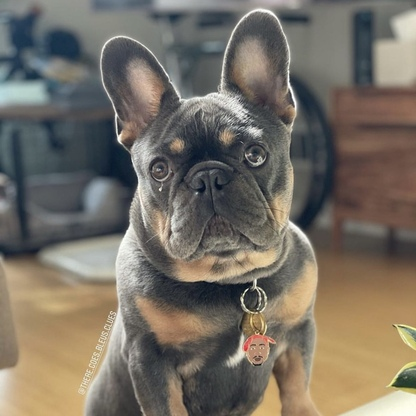bulldog: (91, 13, 339, 292)
